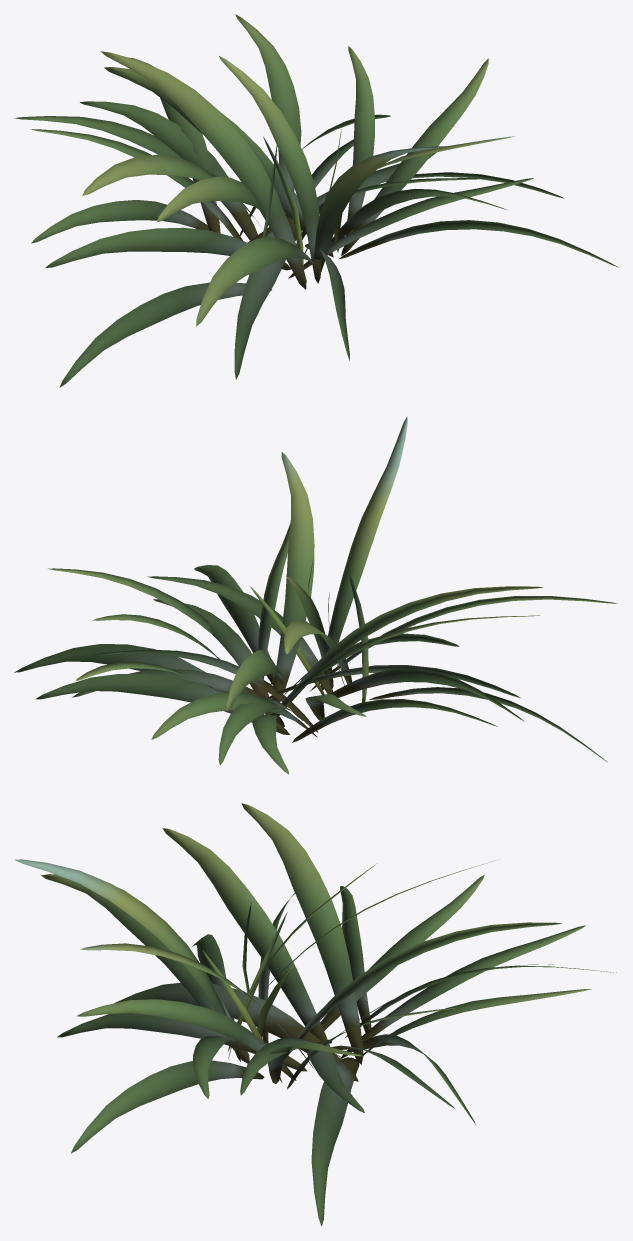
Rendered from osoka-aloesowata-22.obj.
The picture shows the model from 3 angles, top to bottom: view 1: azimuth 30°, elevation 25°; view 2: azimuth 150°, elevation 25°; view 3: azimuth 270°, elevation 25°; orthographic projection. The views are drawn at different scales.
Parts seen in each view (by area): view 1: Stratiotes-aloides1.010; view 2: Stratiotes-aloides1.010; view 3: Stratiotes-aloides1.010.
Boxes of the visible parts, x1,y1,x2,y2 form: Stratiotes-aloides1.010: (14, 14, 618, 387); Stratiotes-aloides1.010: (14, 416, 617, 774); Stratiotes-aloides1.010: (14, 803, 616, 1226).
Bounding box in the file's own units: 0.5612 × 0.2184 × 0.5049.
Materials: 1 (1 with a texture image).
